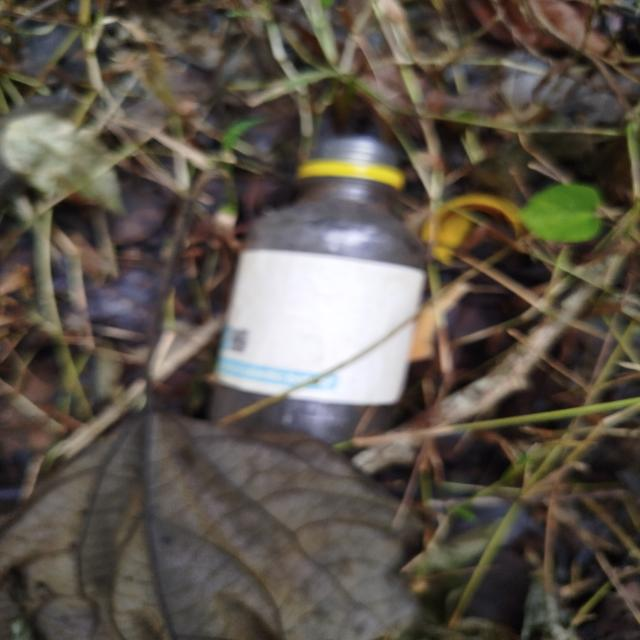plastic: (213, 119, 440, 446)
